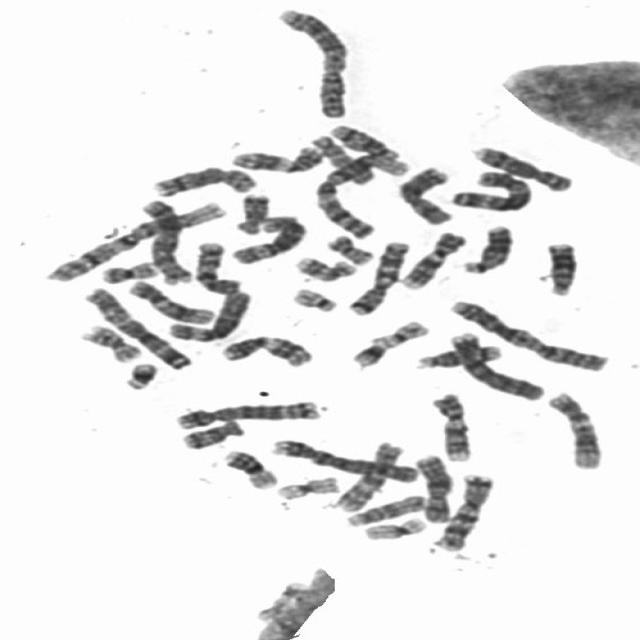A1: (38, 196, 230, 283), (309, 149, 414, 240)
A2: (444, 295, 612, 373), (270, 3, 352, 119)
A3: (78, 283, 198, 372), (445, 166, 535, 213)
B4: (443, 328, 548, 402), (267, 435, 422, 484)
B5: (133, 195, 195, 286), (170, 397, 324, 430)
C10: (329, 438, 406, 512), (189, 237, 246, 296)
C11: (215, 331, 317, 368), (227, 142, 327, 174)
C12: (542, 388, 606, 471), (122, 276, 217, 325)
C6: (162, 286, 254, 342), (226, 210, 312, 265)
C7: (344, 236, 413, 317), (430, 470, 496, 551)
C8: (467, 141, 577, 192), (148, 162, 262, 198)
C9: (395, 228, 469, 290), (426, 388, 476, 462)
D13: (456, 220, 517, 274), (540, 238, 581, 297)
D14: (324, 120, 402, 161), (412, 340, 505, 370)
D15: (306, 131, 379, 186), (341, 490, 431, 528)
E16: (78, 321, 146, 363), (219, 446, 281, 490)
E17: (250, 577, 307, 623), (290, 252, 360, 282)
E18: (175, 415, 248, 450), (230, 190, 273, 236)
F19: (272, 472, 342, 501), (358, 513, 430, 541)
F20: (322, 230, 377, 266), (95, 256, 160, 284)
G21: (345, 337, 392, 368), (118, 358, 162, 391)
G22: (367, 316, 432, 346), (286, 283, 341, 313)
X: (394, 162, 456, 226), (409, 451, 455, 524)
